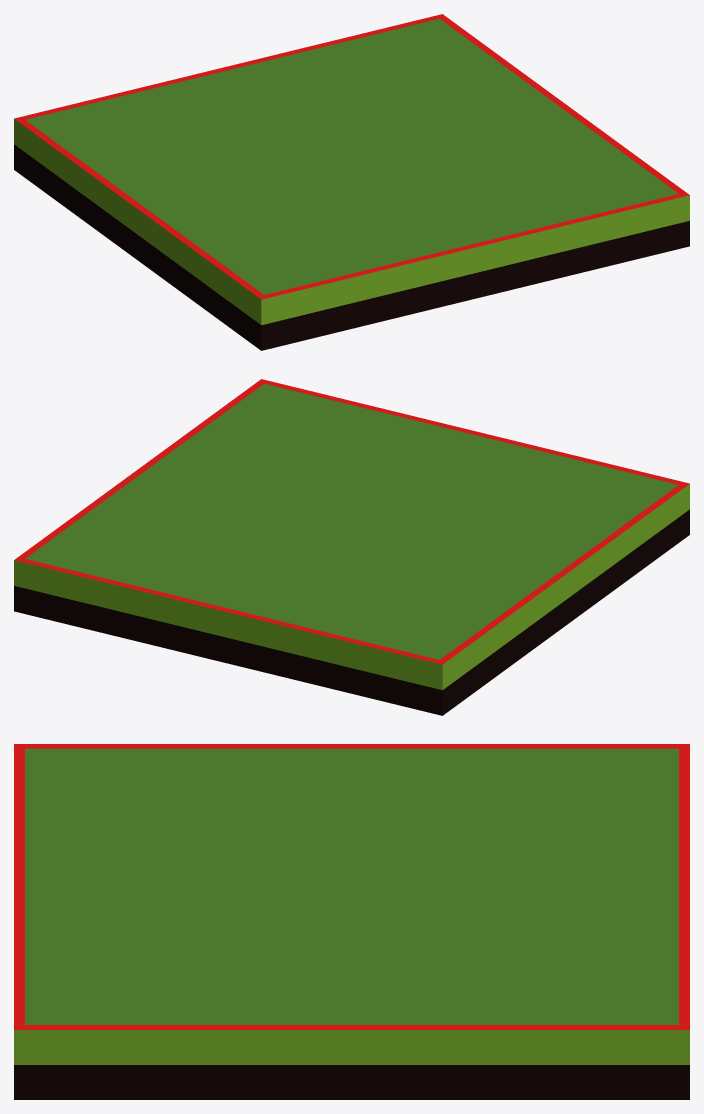
Rendered from Tile_2.FBX.
The picture shows the model from 3 angles, top to bottom: view 1: azimuth 30°, elevation 25°; view 2: azimuth 150°, elevation 25°; view 3: azimuth 270°, elevation 25°; orthographic projection. The views are drawn at different scales.
Parts seen in each view (by area): view 1: Box004; view 2: Box004; view 3: Box004.
Part boxes in pixels (x1,y1,x2,y2): Box004: (14,14,689,350); Box004: (14,379,689,715); Box004: (14,744,689,1099).
Size of the model in its own units: 37.84 by 4.32 by 37.84.
